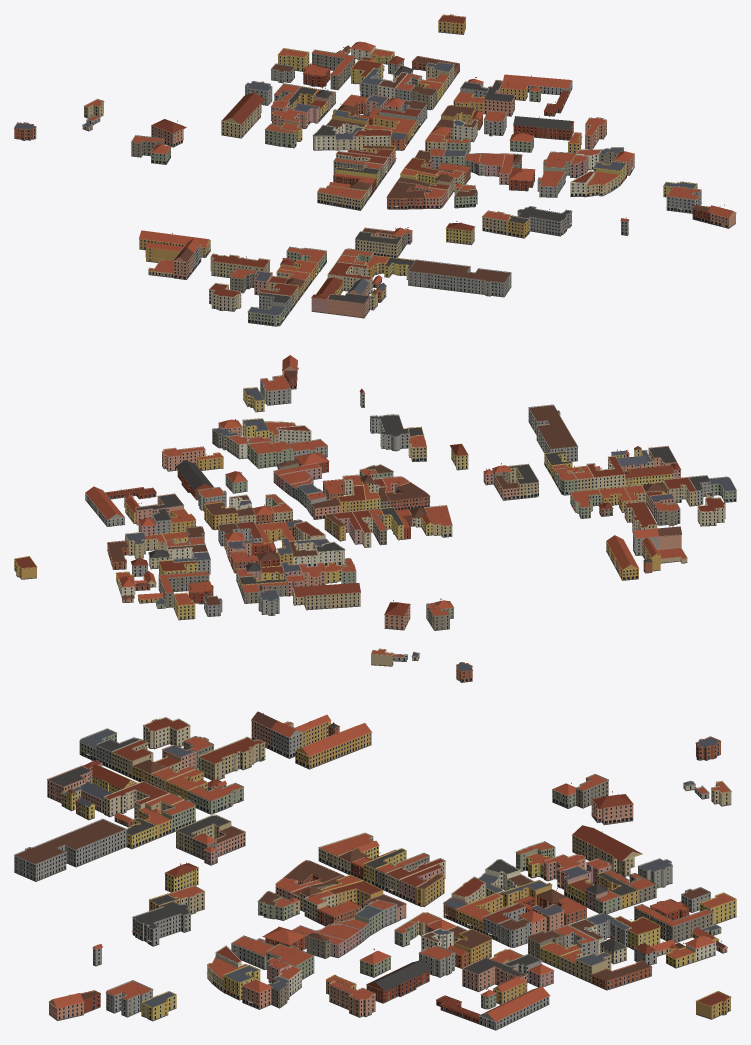
The model's file is Budynki_1_1.fbx.
3 views of the same model, one above another, from view 1: azimuth 30°, elevation 25°; view 2: azimuth 150°, elevation 25°; view 3: azimuth 270°, elevation 25° (orthographic). The views are drawn at different scales.
Parts seen in each view (by area): view 1: Bud_185574943, Bud_216437760, Bud_168632999, Bud_185774695, Bud_217813439, Bud_266435363, Bud_184414687, Bud_377690256, Bud_185774699, Bud_207201289, Bud_97876860, Bud_168629468 (+28 smaller); view 2: Bud_185574943, Bud_216437760, Bud_185774695, Bud_207201326, Bud_217813439, Bud_168629468, Bud_97876860, Bud_207201289, Bud_185159784, Bud_168632999, Bud_287079510, Bud_185774699 (+19 smaller); view 3: Bud_185574943, Bud_216437760, Bud_184414687, Bud_168629468, Bud_185774695, Bud_168632999, Bud_97876860, Bud_217813439, Bud_97876859, Bud_185159784, Bud_184280619, Bud_287079510 (+72 smaller).
Part boxes in pixels (x1,y1,x2,y2): Bud_185574943: [408, 259, 511, 297]; Bud_216437760: [221, 92, 264, 138]; Bud_168632999: [513, 116, 574, 140]; Bud_185774695: [517, 206, 572, 236]; Bud_217813439: [311, 49, 355, 90]; Bud_266435363: [317, 185, 367, 210]; Bud_184414687: [210, 253, 270, 277]; Bud_377690256: [327, 292, 370, 318]; Bud_185774699: [355, 231, 402, 258]; Bud_207201289: [386, 181, 425, 209]; Bud_97876860: [503, 74, 572, 95]; Bud_168629468: [139, 230, 210, 257]; Bud_185574943: [528, 404, 578, 461]; Bud_216437760: [292, 583, 360, 610]; Bud_185774695: [370, 414, 409, 451]; Bud_207201326: [247, 440, 292, 468]; Bud_217813439: [158, 571, 209, 607]; Bud_168629468: [606, 535, 639, 580]; Bud_97876860: [85, 486, 125, 526]; Bud_207201289: [385, 482, 430, 510]; Bud_185159784: [586, 455, 625, 489]; Bud_168632999: [175, 460, 213, 500]; Bud_287079510: [260, 375, 291, 405]; Bud_185774699: [509, 463, 538, 498]; Bud_185574943: [14, 818, 126, 881]; Bud_216437760: [572, 825, 642, 876]; Bud_184414687: [198, 736, 265, 780]; Bud_168629468: [295, 723, 372, 769]; Bud_185774695: [132, 901, 191, 946]; Bud_168632999: [366, 959, 431, 1003]; Bud_97876860: [479, 986, 550, 1030]; Bud_217813439: [634, 904, 713, 943]; Bud_97876859: [462, 957, 527, 992]; Bud_185159784: [103, 781, 169, 818]; Bud_184280619: [187, 782, 244, 814]; Bud_287079510: [105, 980, 153, 1017].
Bounding box in the file's own units: 540 × 23.5 × 543.
